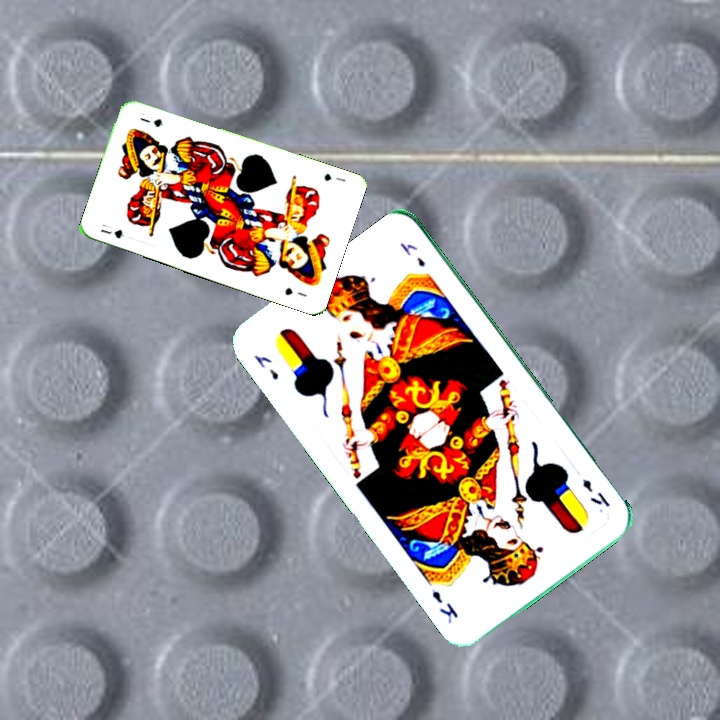EK: (578, 474, 612, 510), (250, 350, 281, 383)
GU: (96, 220, 127, 241), (320, 169, 348, 184)
